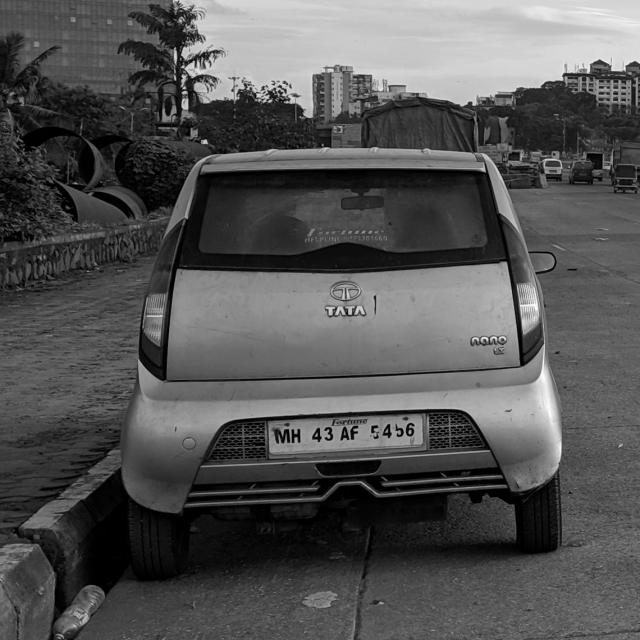car: (108, 132, 584, 558)
license-plate: (258, 415, 428, 453)
